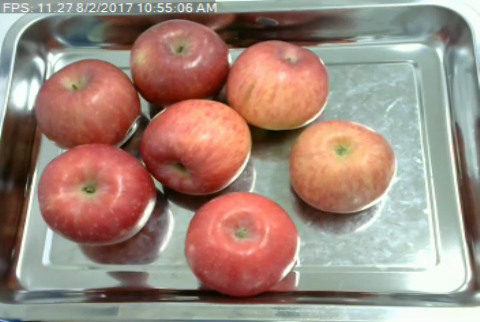Apple: (36, 142, 157, 245), (184, 191, 298, 297), (138, 97, 251, 194), (288, 117, 394, 215), (225, 38, 331, 132), (33, 59, 142, 148), (129, 19, 231, 104)
